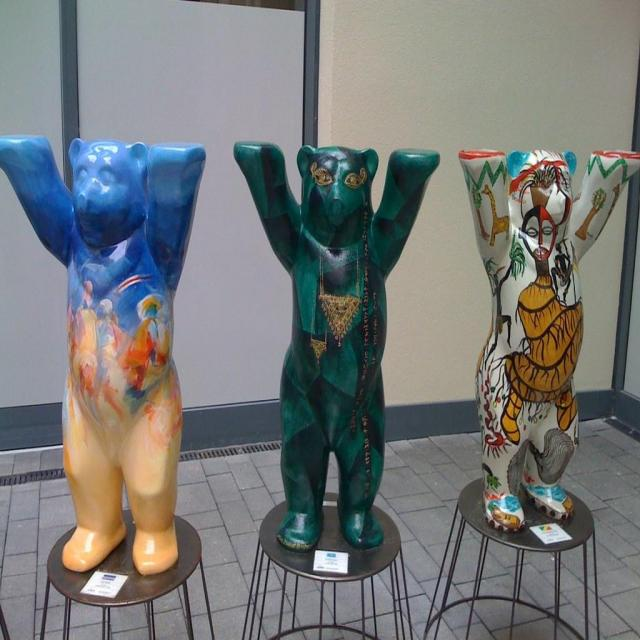Table: (216, 502, 422, 626)
